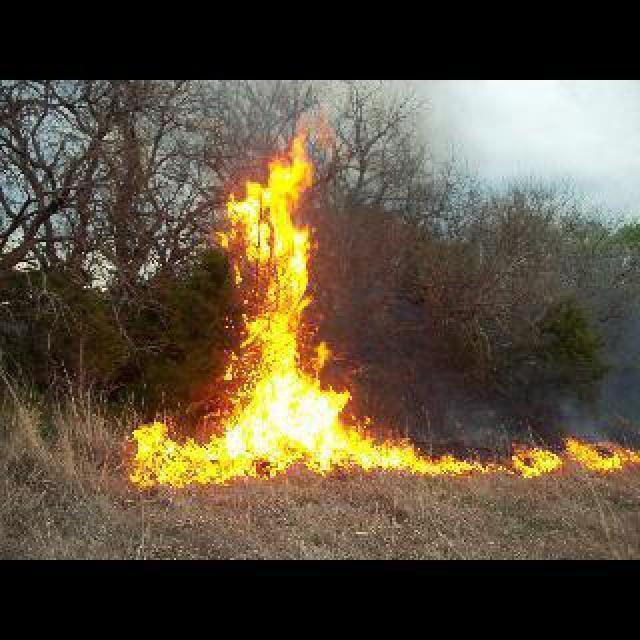Fire: (124, 112, 632, 490)
